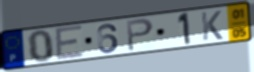0: (24, 29, 57, 64)
1: (176, 11, 192, 47)
6: (96, 23, 120, 54)
E: (53, 24, 86, 63)
K: (200, 10, 225, 42)
P: (125, 17, 156, 52)
